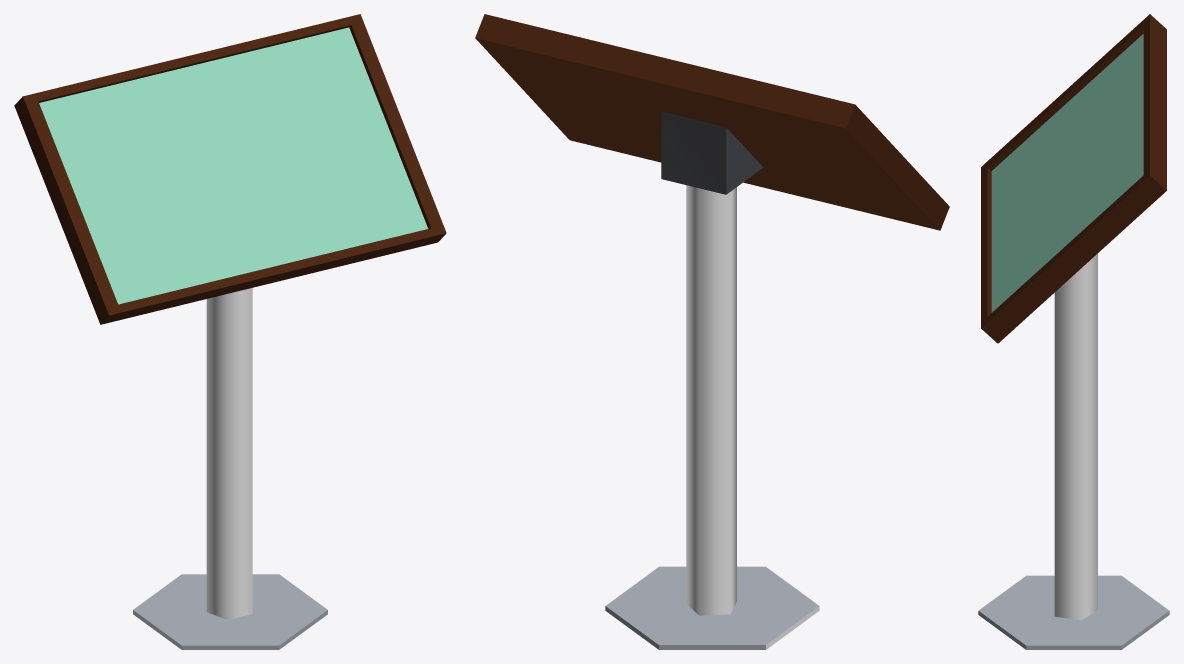
The model's file is SignPost.fbx.
3 views of the same model, side by side, from view 1: azimuth 30°, elevation 25°; view 2: azimuth 150°, elevation 25°; view 3: azimuth 270°, elevation 25° (orthographic). The views are drawn at different scales.
Visible parts, largest first — view 1: DigitalSign-display_01, DigitalSign-pole_01, DigitalSign-base_01; view 2: DigitalSign-display_01, DigitalSign-pole_01, DigitalSign-base_01, DigitalSign-joint_01; view 3: DigitalSign-display_01, DigitalSign-pole_01, DigitalSign-base_01.
Part boxes in pixels (x1,y1,x2,y2): DigitalSign-display_01: (14, 14, 446, 324); DigitalSign-pole_01: (206, 288, 252, 619); DigitalSign-base_01: (133, 574, 327, 649); DigitalSign-display_01: (475, 14, 949, 230); DigitalSign-pole_01: (686, 185, 736, 615); DigitalSign-base_01: (605, 566, 819, 649); DigitalSign-joint_01: (661, 111, 763, 194); DigitalSign-display_01: (981, 14, 1166, 343); DigitalSign-pole_01: (1054, 253, 1097, 620); DigitalSign-base_01: (978, 575, 1169, 649).
Bounding box in the file's own units: 80 × 120 × 40.
